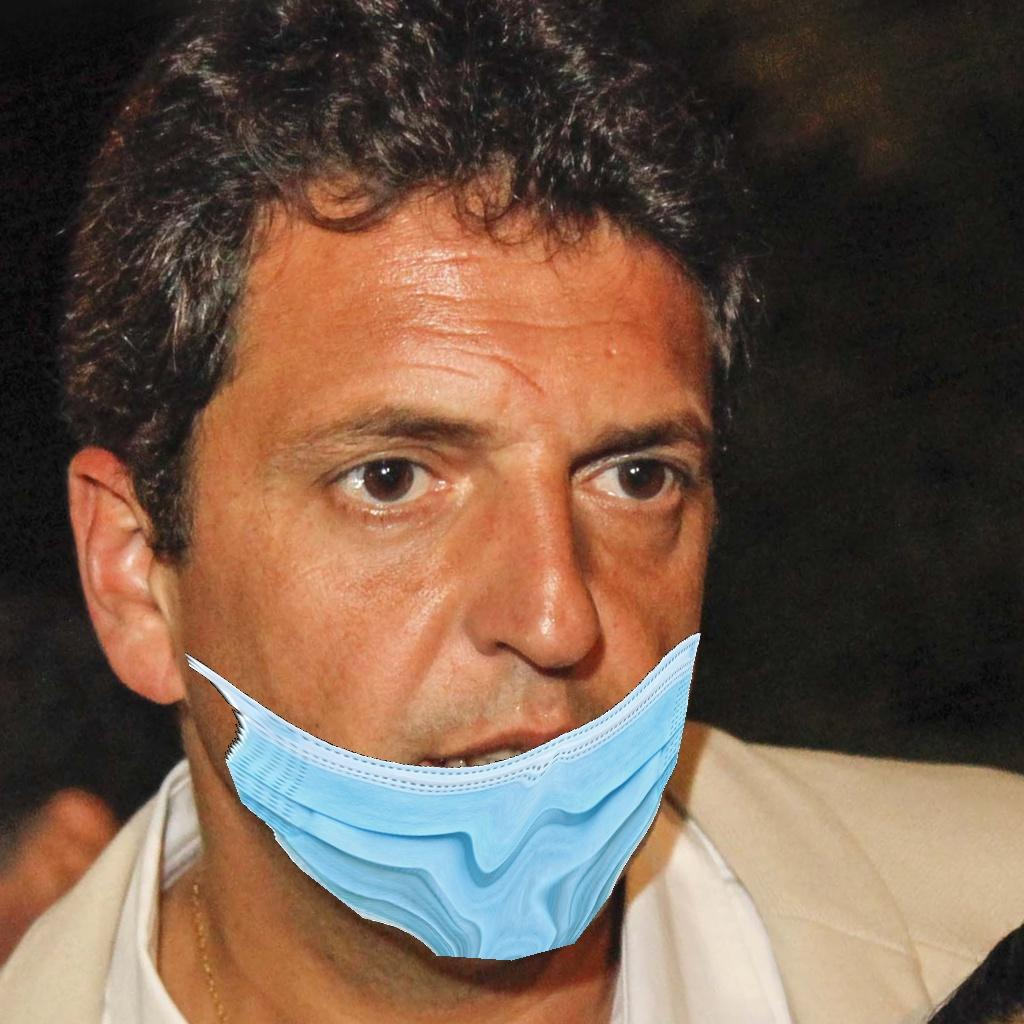Máscara Incorreta: (175, 286, 719, 938)
